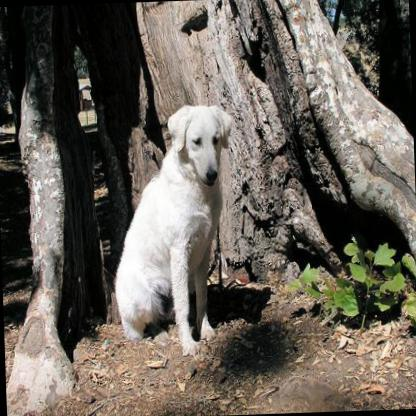kuvasz: (104, 103, 242, 361)
